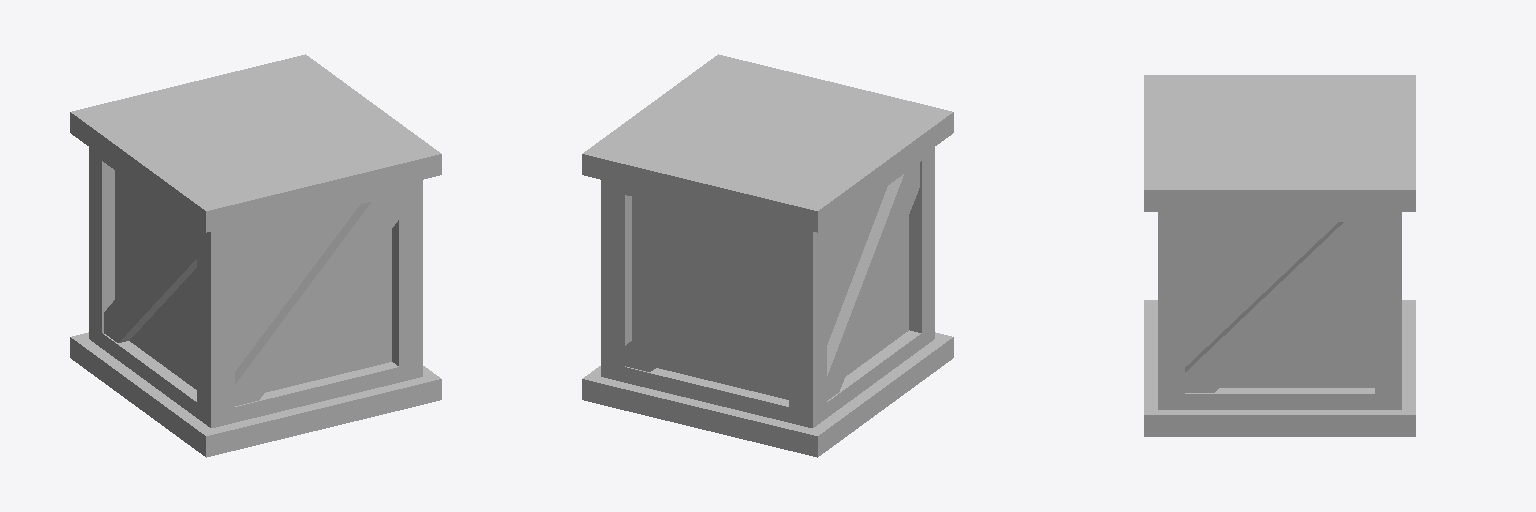
File: crate_2.obj
The picture shows the model from 3 angles: view 1: azimuth 30°, elevation 25°; view 2: azimuth 150°, elevation 25°; view 3: azimuth 270°, elevation 25°; orthographic projection.
Visible parts, largest first — view 1: Crate_2.001_Cube.009; view 2: Crate_2.001_Cube.009; view 3: Crate_2.001_Cube.009.
Part boxes in pixels (bbox=[...]): Crate_2.001_Cube.009: bbox=[70, 54, 441, 457]; Crate_2.001_Cube.009: bbox=[582, 54, 953, 457]; Crate_2.001_Cube.009: bbox=[1144, 75, 1415, 436].
Bounding box in the file's own units: 1 × 0.9987 × 1.